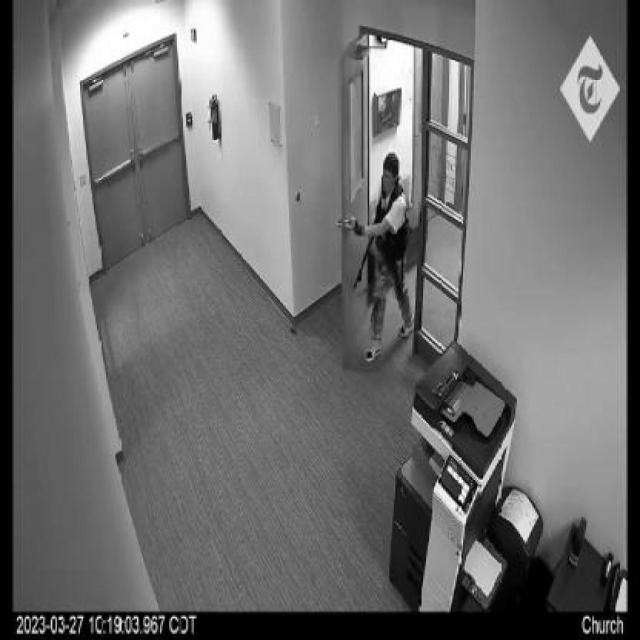weapon: (353, 190, 384, 288)
